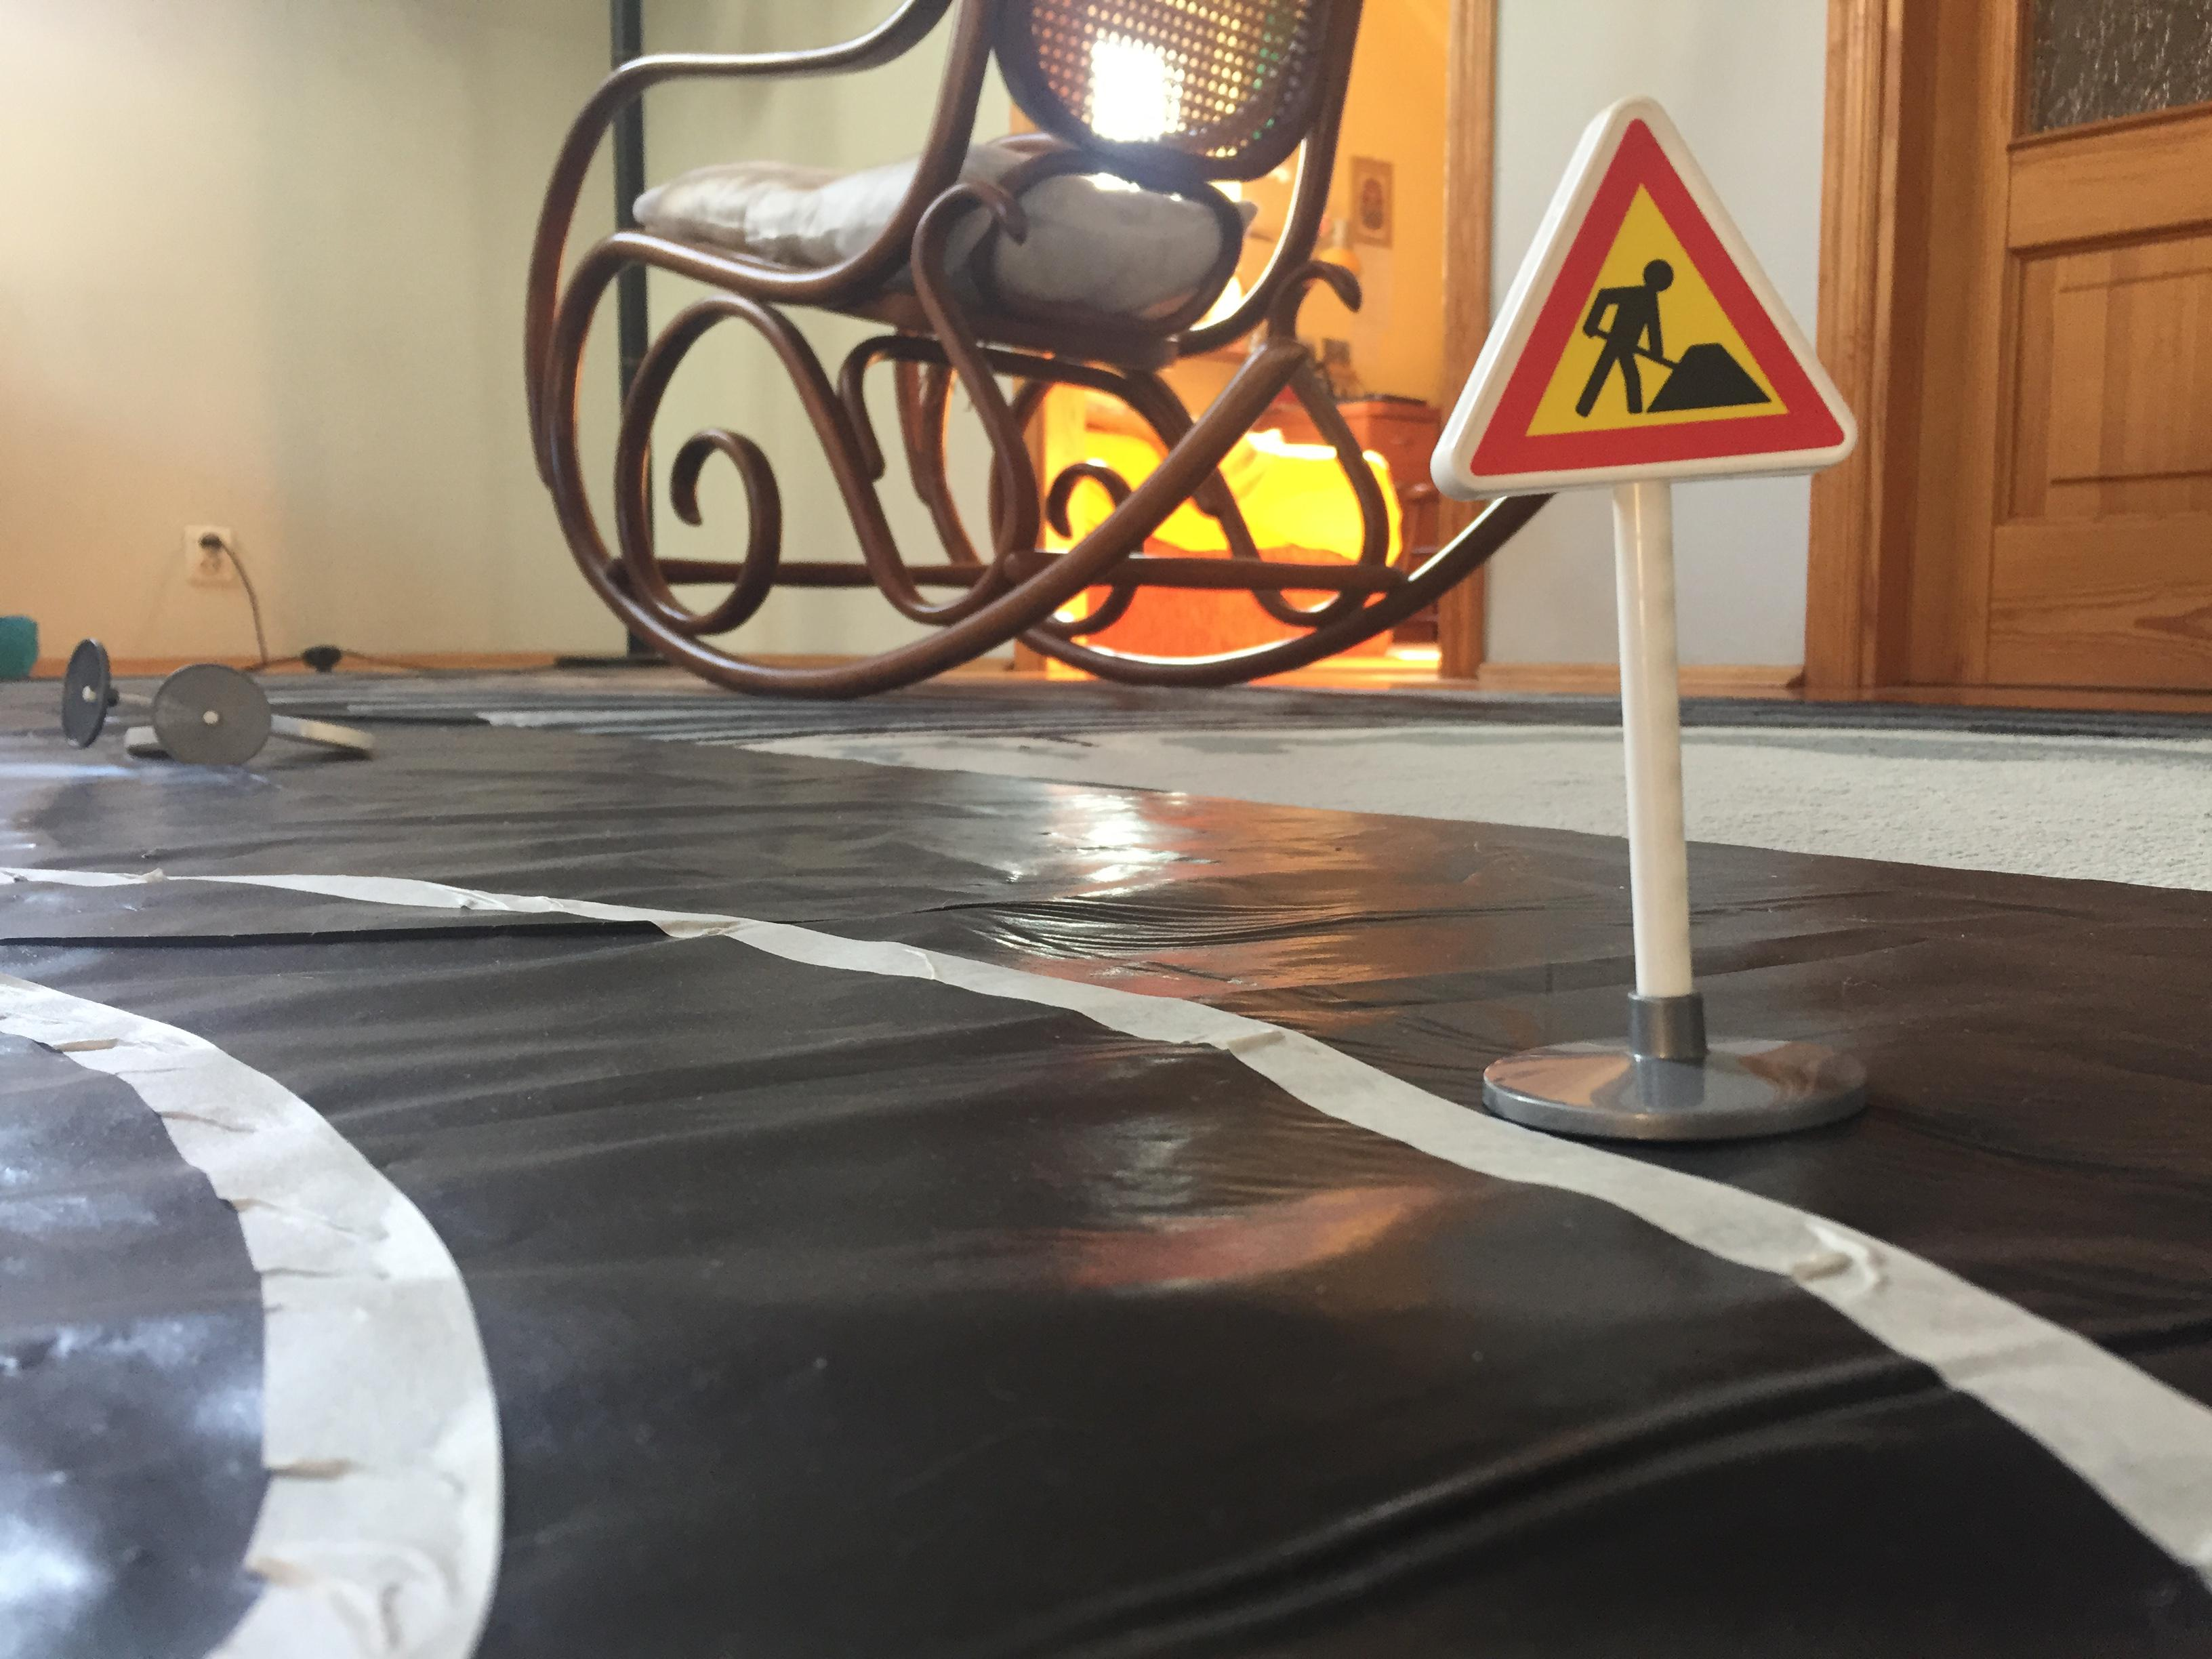work: (1418, 80, 1886, 521)
